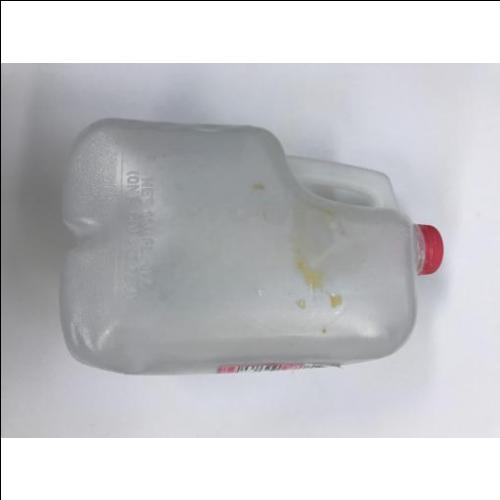plastic: (64, 119, 443, 373)
